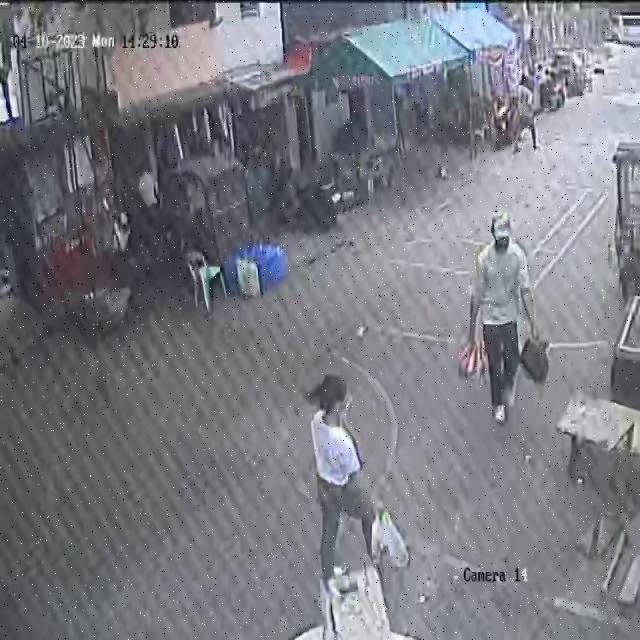garbage_dumping: (376, 489, 409, 571), (455, 336, 487, 389), (522, 329, 550, 384)
